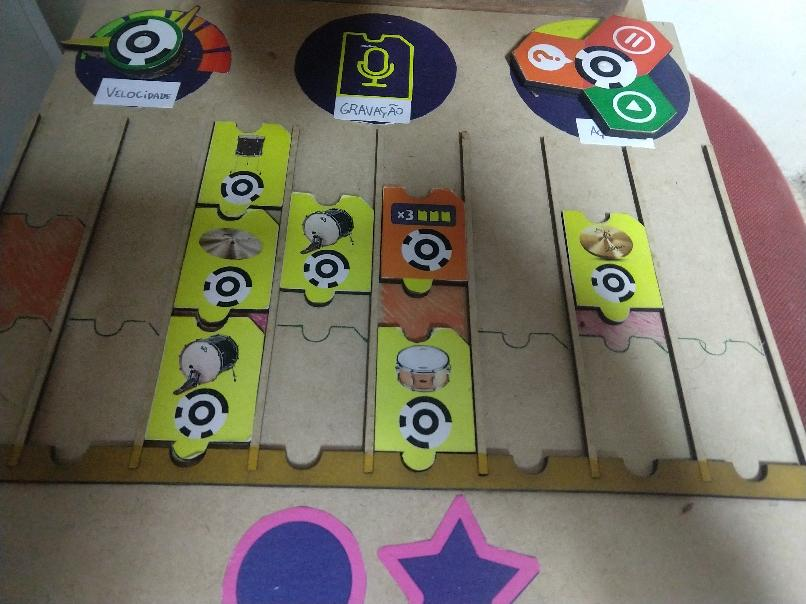bumbo: (148, 315, 265, 465), (281, 190, 377, 310)
